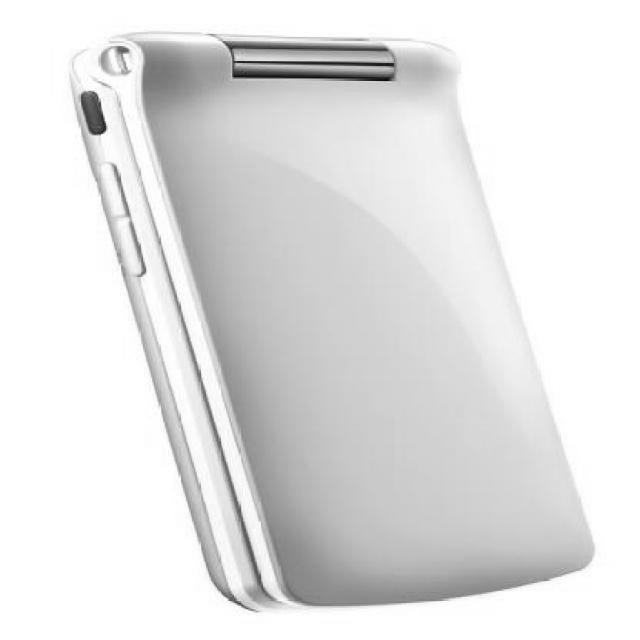fake: (56, 34, 592, 616)
